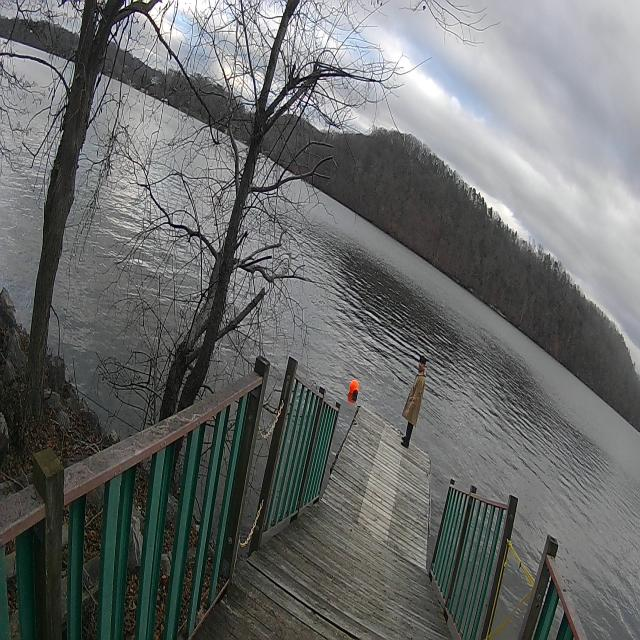Buoy: (348, 376, 362, 404)
